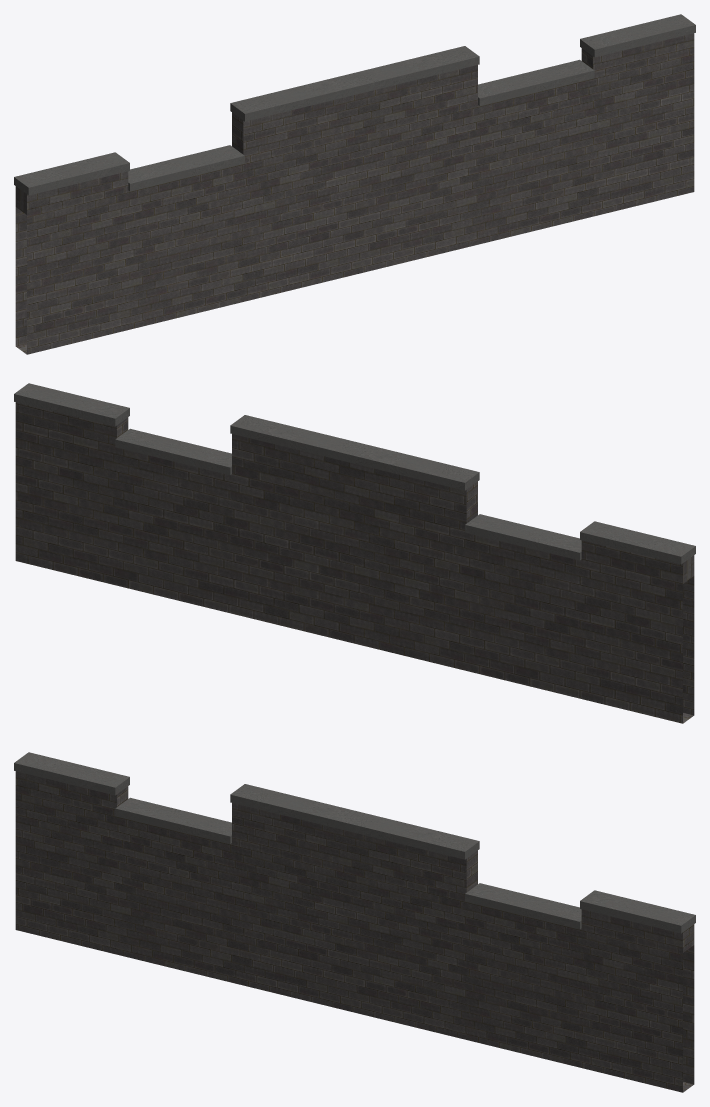
Rendered from Sm_Roof02.fbx.
3 renders of one model, top to bottom at view 1: azimuth 30°, elevation 25°; view 2: azimuth 150°, elevation 25°; view 3: azimuth 330°, elevation 25°, orthographic.
Visible parts, largest first — view 1: Sm_Roof02; view 2: Sm_Roof02; view 3: Sm_Roof02.
Boxes of the visible parts, left/top/right/bottom form: Sm_Roof02: left=14, top=14, right=695, bottom=354; Sm_Roof02: left=14, top=383, right=695, bottom=723; Sm_Roof02: left=14, top=752, right=695, bottom=1092.
Bounding box in the file's own units: 500 × 19.11 × 136.
3 materials, 3 textured.
